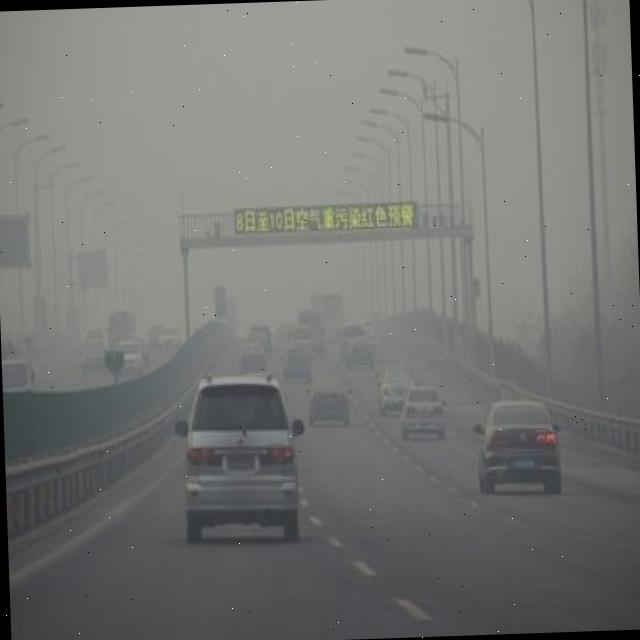car: (176, 373, 301, 542), (474, 398, 562, 494), (302, 374, 354, 424), (398, 382, 443, 437), (376, 363, 414, 414), (1, 355, 35, 387), (114, 341, 144, 375), (343, 335, 373, 367), (236, 345, 269, 373), (284, 327, 310, 361), (80, 338, 104, 372), (157, 319, 179, 351)
truck: (316, 288, 344, 332), (108, 310, 134, 344)
